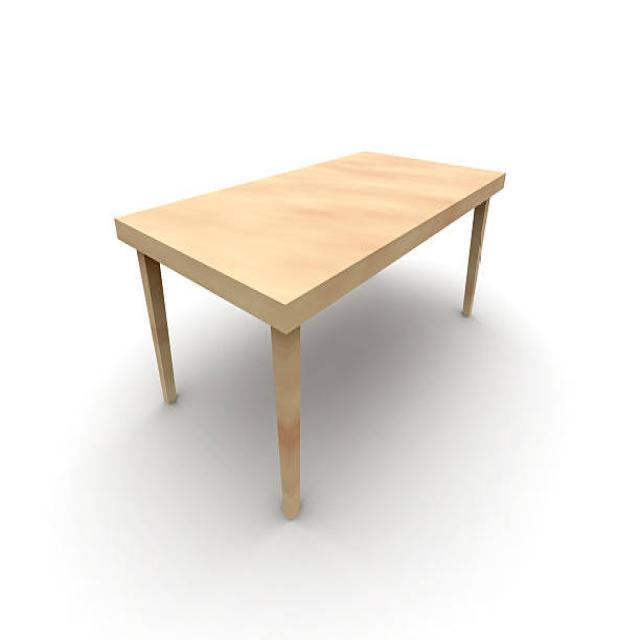table: (113, 148, 506, 520)
